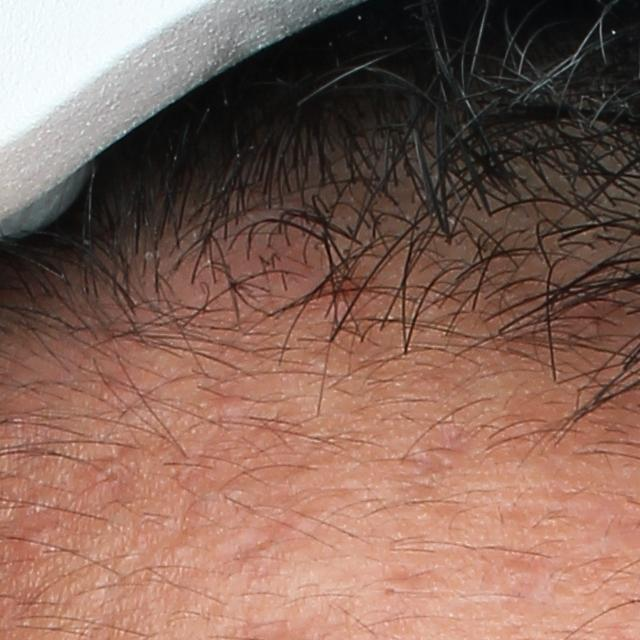comedo: (211, 388, 246, 417), (381, 581, 401, 600)
